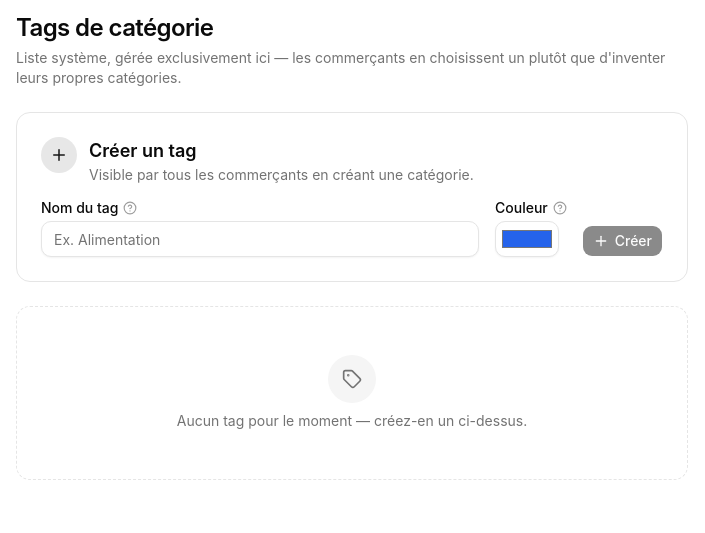
CategoryTagsPageContent › shows an error and keeps the form when creation fails
Expected: the text "Aucun tag pour le moment — créez-en un ci-dessus." is shown, [177,411,527,431]
Type "Électronique" into the field labelled "Nom du tag". click: (260, 239)
box: [41,221,479,257]
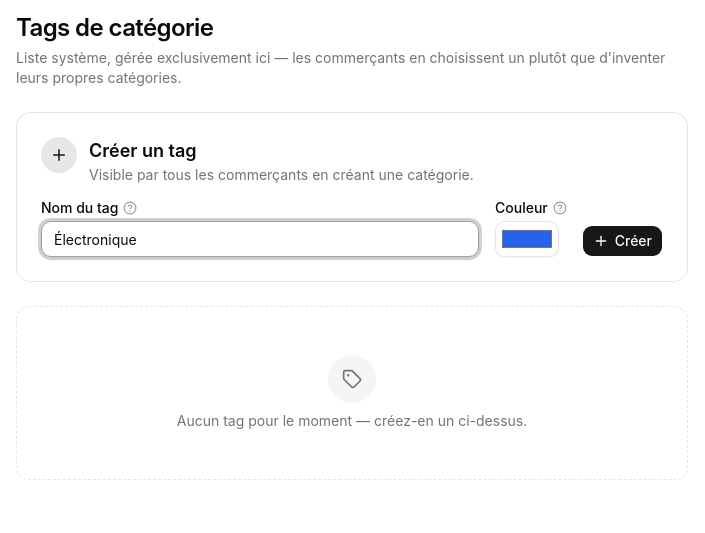
Click the button "Créer". click: (622, 241)
box: [582,225,663,257]
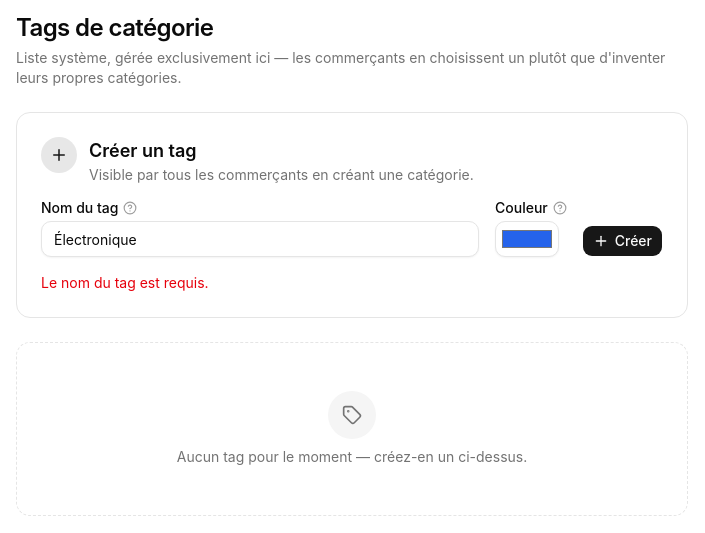
Expected: the text "Le nom du tag est requis." is shown, [41,274,209,291]
